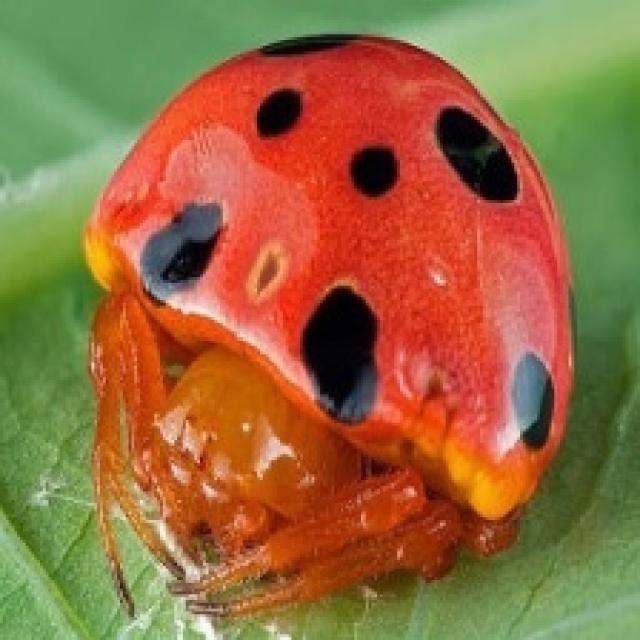Non venomous spider: (29, 2, 598, 571)
